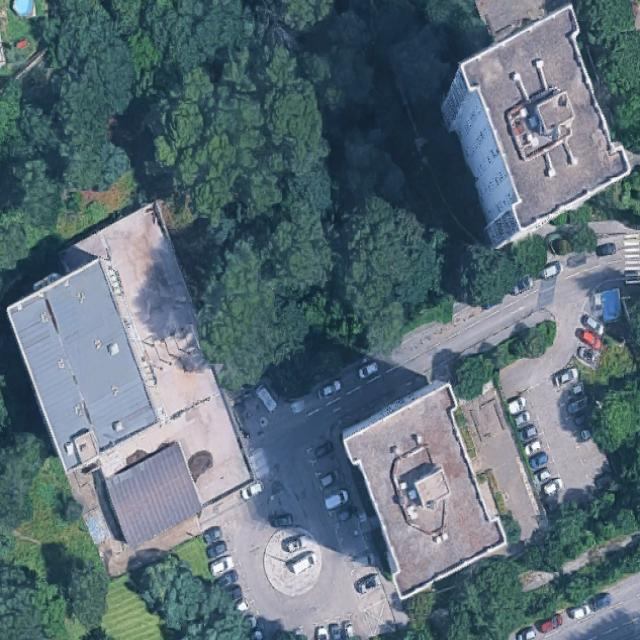immeuble: (422, 5, 640, 248), (333, 378, 513, 600), (0, 255, 169, 471), (97, 441, 209, 546)
